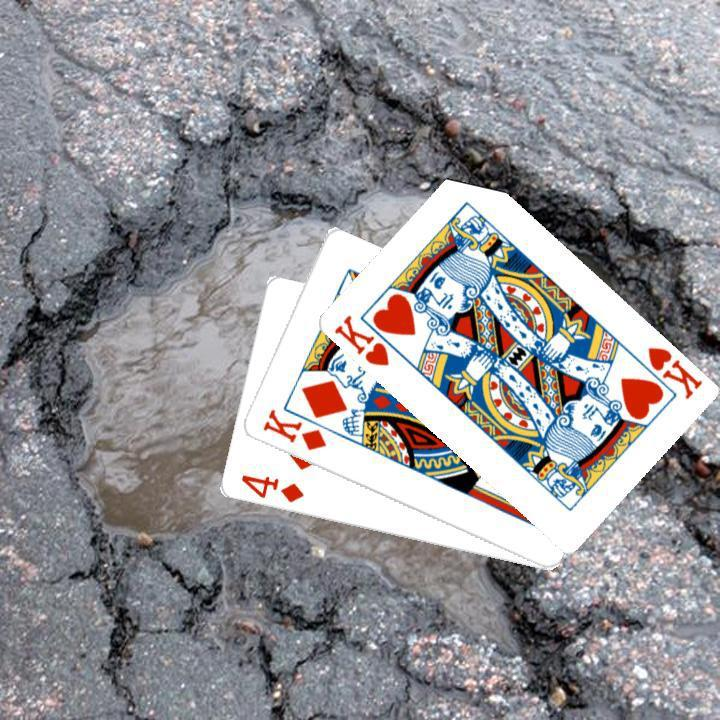4: (236, 471, 305, 505)
K: (642, 342, 704, 402), (329, 310, 391, 369), (258, 405, 328, 453)
